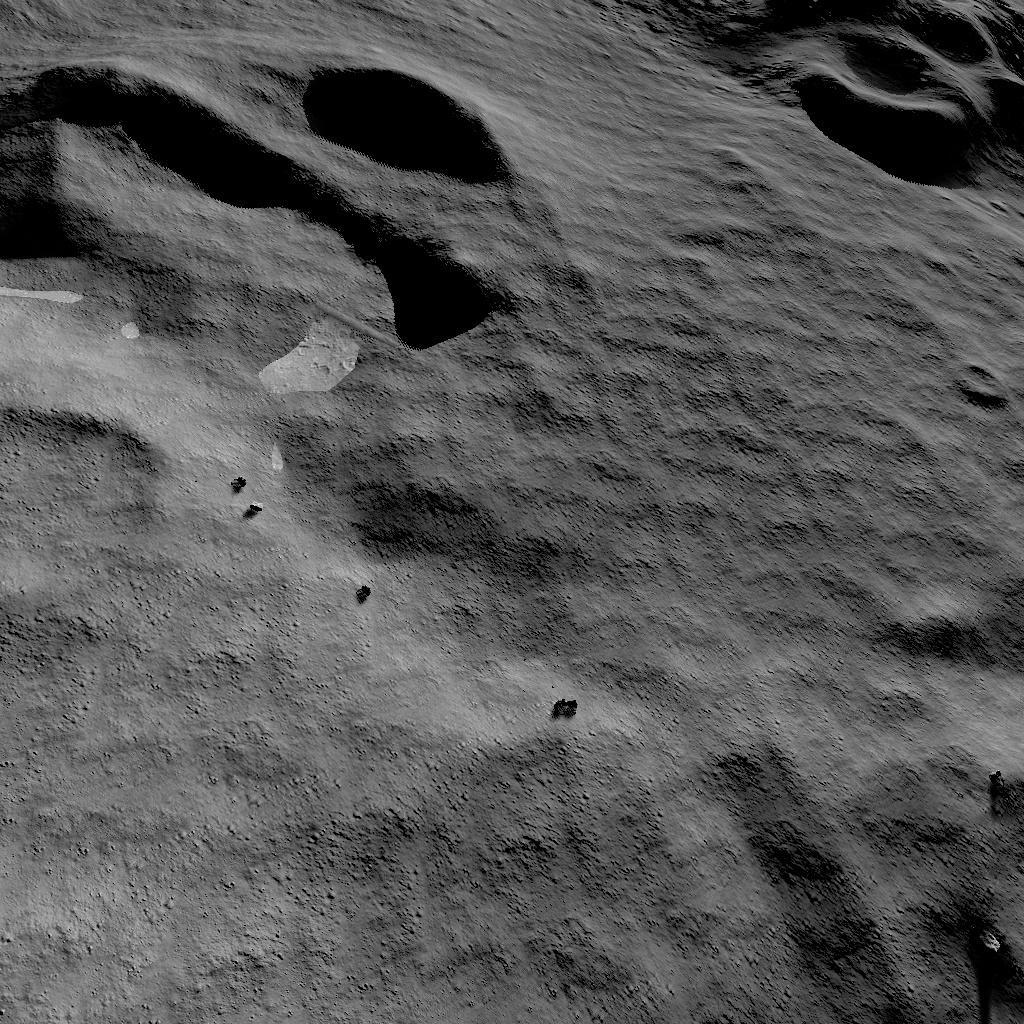Crater: (0, 57, 522, 377), (577, 0, 1024, 239), (0, 408, 168, 626), (944, 370, 1012, 418)
Plan surface: (7, 668, 524, 1024), (591, 287, 909, 806), (547, 820, 893, 1024)
